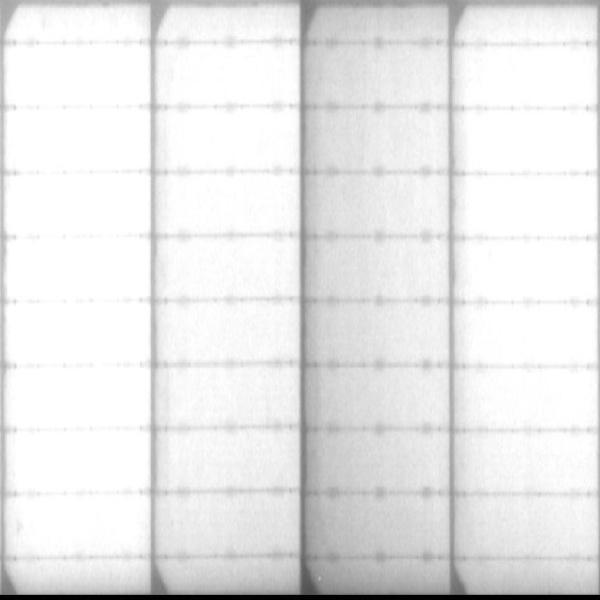hot_spot: (14, 244, 146, 556), (6, 46, 149, 103), (8, 113, 146, 168), (467, 49, 598, 106), (471, 306, 592, 366), (477, 366, 593, 428), (11, 180, 147, 232), (460, 118, 598, 168), (467, 241, 592, 296), (164, 45, 296, 97), (464, 178, 590, 229), (168, 116, 296, 165), (171, 179, 290, 231), (170, 372, 292, 420), (173, 311, 291, 359), (173, 245, 292, 292), (498, 435, 595, 491), (171, 441, 294, 485)
